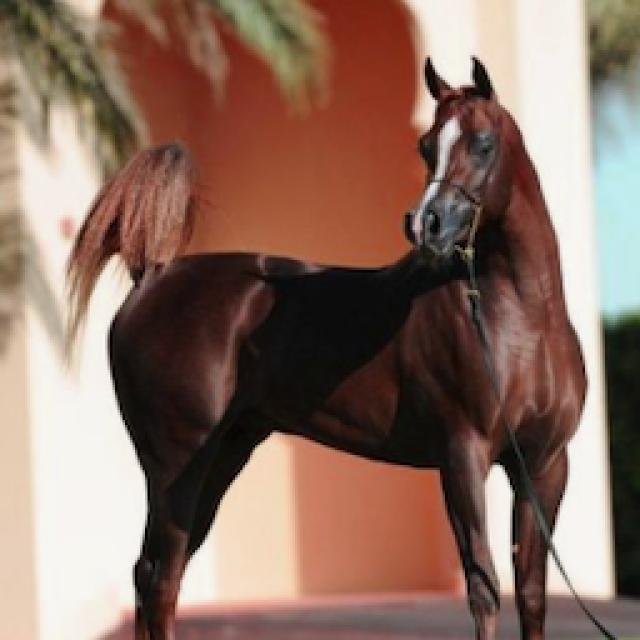Horse: (55, 50, 628, 638)
